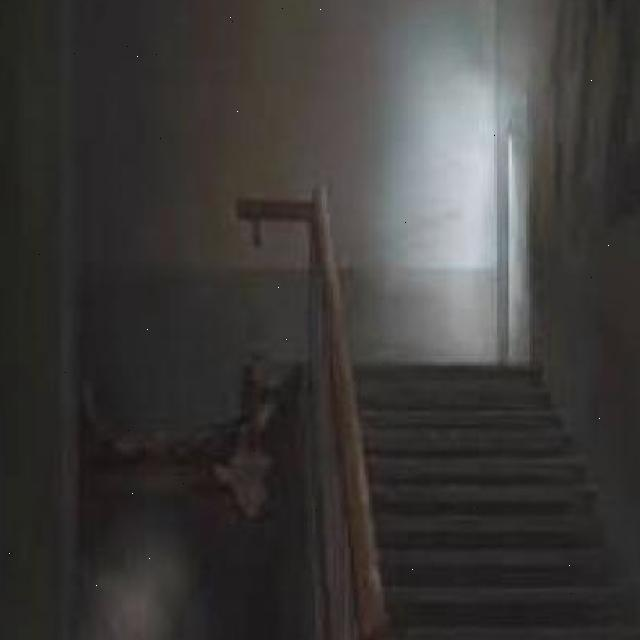stair: (344, 348, 640, 608)
